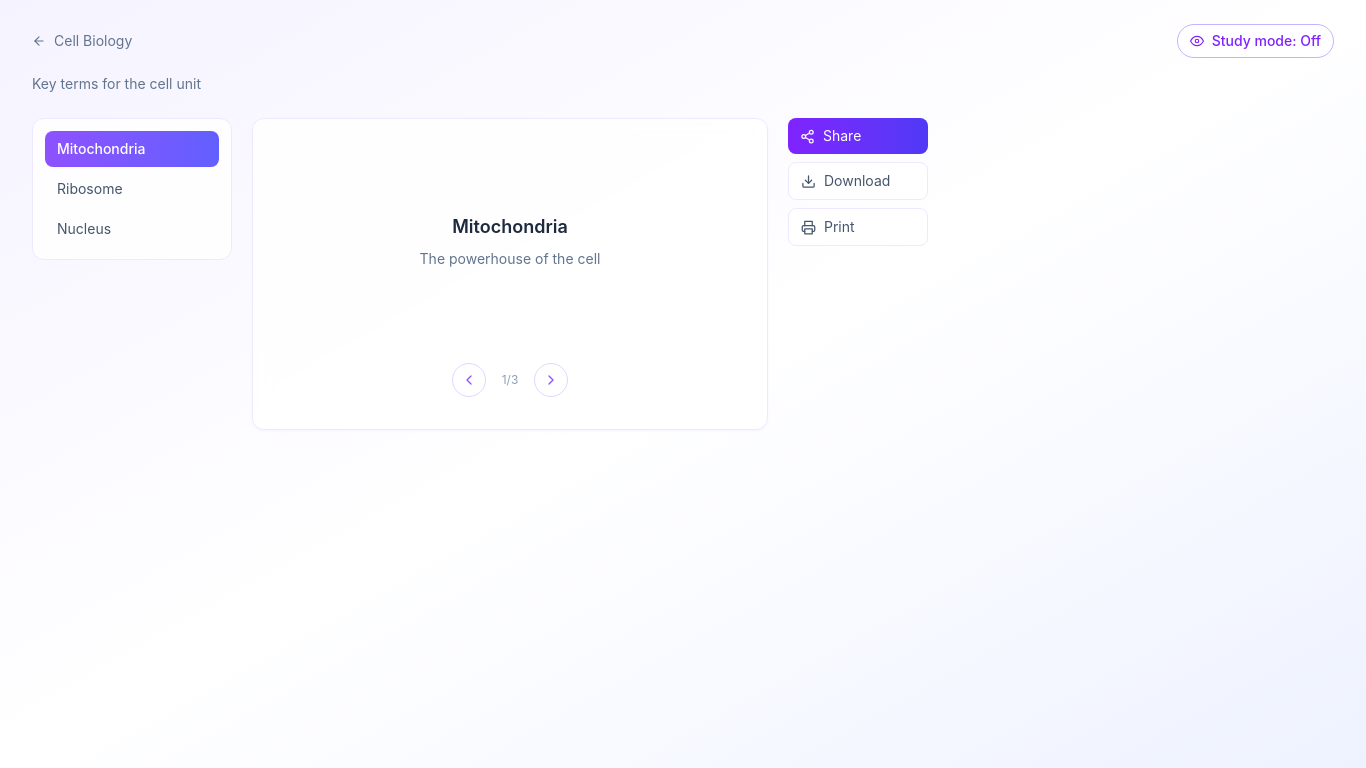
FlashcardDetailsPage › switches to a term when clicked in the term list
This screenshot has width=1366, height=768.
Click the button "Ribosome" at point(132, 189), box [45, 171, 219, 207]
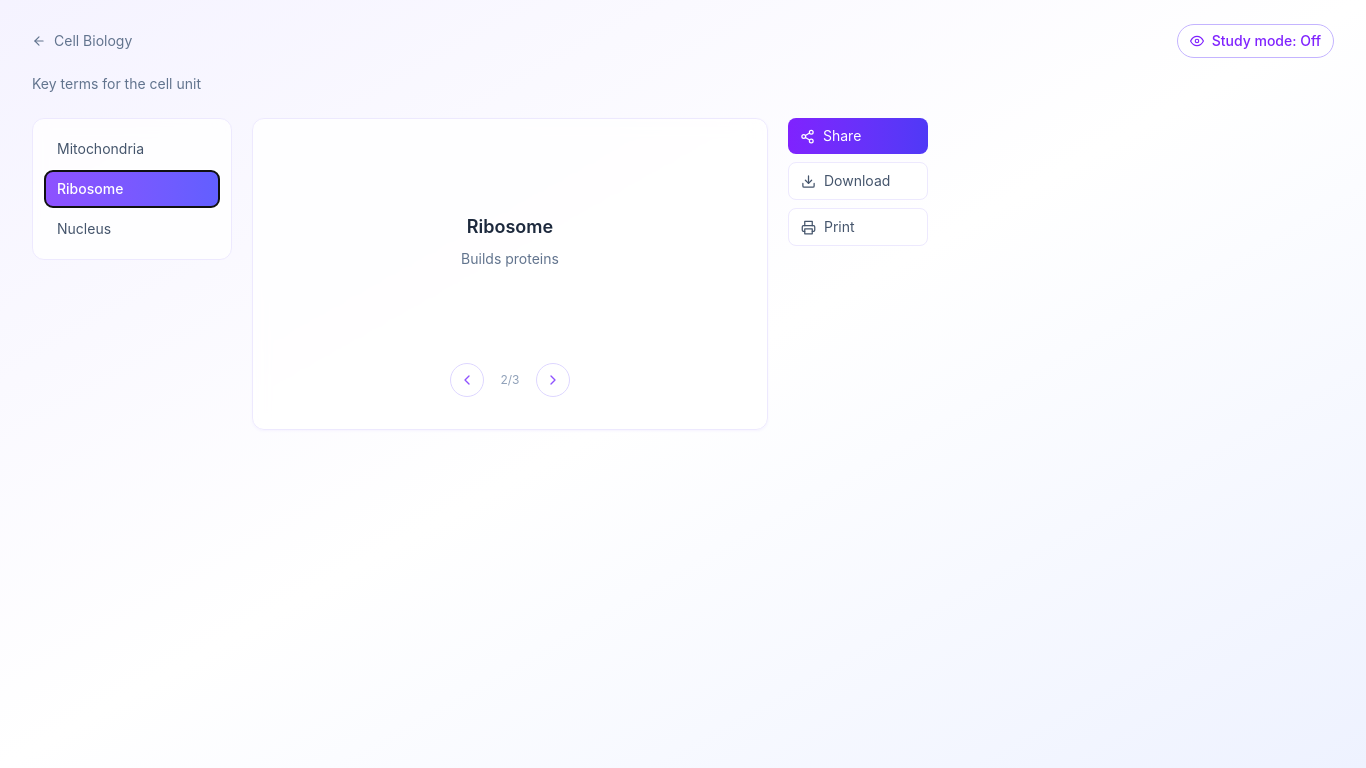
Check: the text "Builds proteins" is shown, box [461, 249, 559, 269]
Check: the text "2/3" is shown, box [500, 372, 520, 388]
